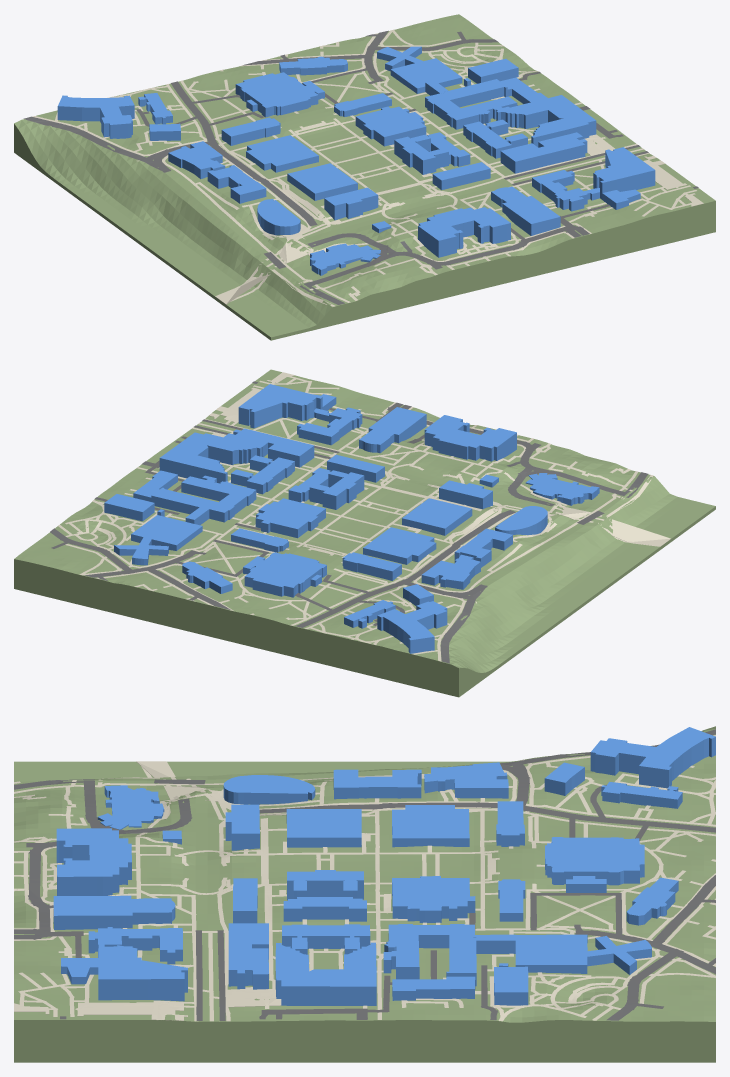
Rendered from umn-terrain.glb.
3 views of the same model, one above another, from view 1: azimuth 30°, elevation 25°; view 2: azimuth 150°, elevation 25°; view 3: azimuth 270°, elevation 25° (orthographic). The views are drawn at different scales.
Parts seen in each view (by area): view 1: ground, buildings, paths, roads; view 2: ground, buildings, paths, roads; view 3: ground, buildings, paths, roads.
Part boxes in pixels (x1,y1,x2,y2): ground: (14,14,715,340); buildings: (57,46,655,275); paths: (32,29,703,306); roads: (23,30,698,304); ground: (14,369,715,697); buildings: (104,384,599,653); paths: (58,372,670,661); roads: (50,381,647,663); ground: (14,726,715,1062); buildings: (53,727,715,1005); paths: (14,735,715,1021); roads: (14,729,715,1020).
Bounding box in the file's own units: 0.5705 × 0.0572 × 0.5705.
